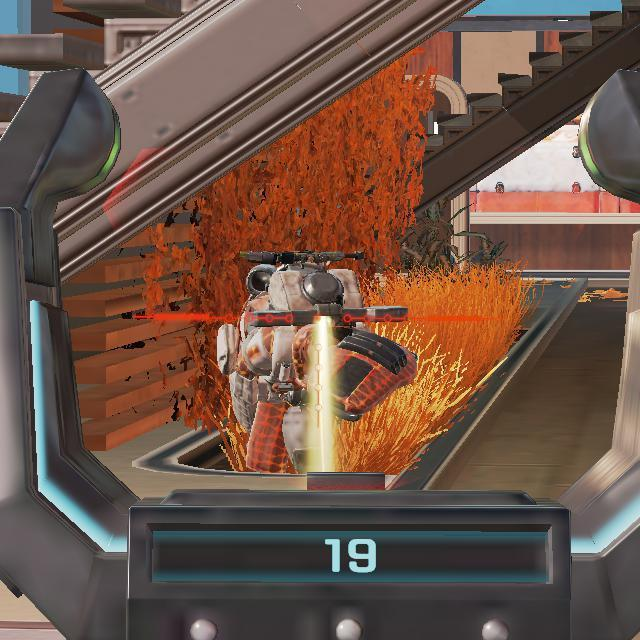avatar: (215, 258, 421, 474)
